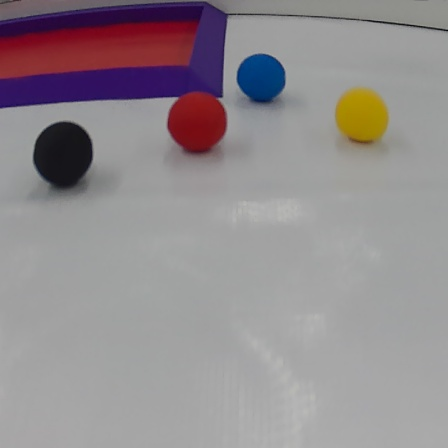black: (28, 118, 98, 189)
blue: (233, 51, 285, 104)
red: (162, 92, 230, 159)
red_aim: (0, 0, 224, 113)
yellow: (333, 87, 393, 147)
